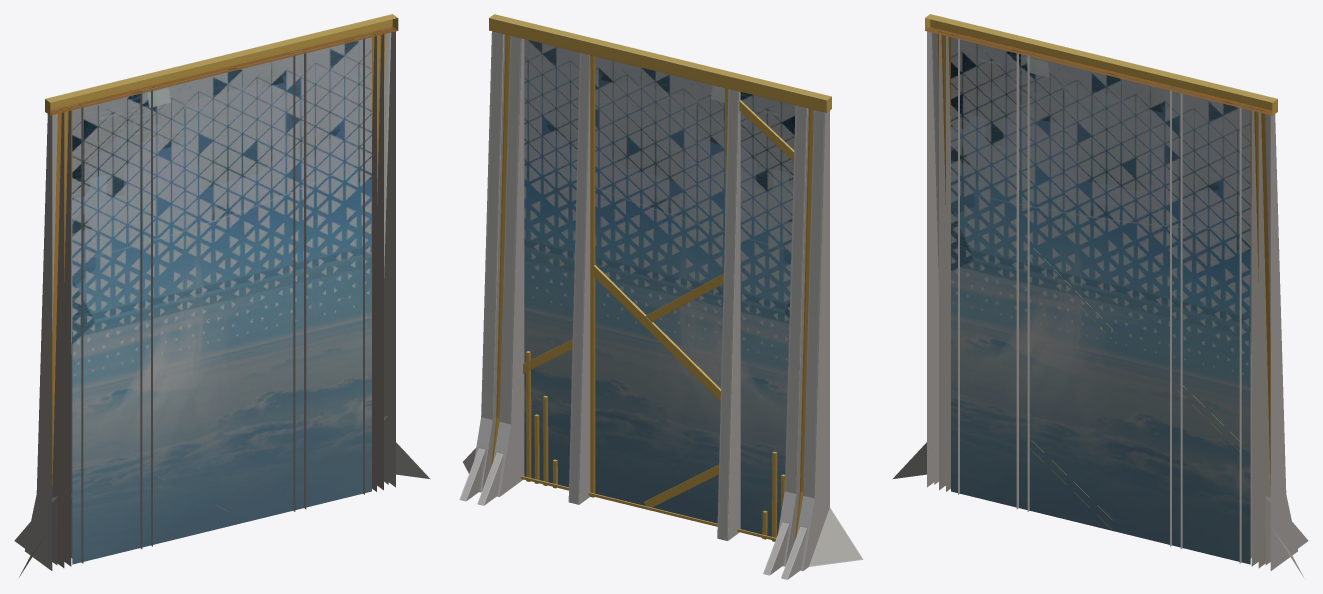
File: furn_ab2024_walldeco01.gltf
3 renders of one model, left to right at view 1: azimuth 30°, elevation 25°; view 2: azimuth 150°, elevation 25°; view 3: azimuth 330°, elevation 25°, orthographic. The views are drawn at different scales.
Visible parts, largest first — view 1: ab2024_walldeco01; view 2: ab2024_walldeco01; view 3: ab2024_walldeco01.
Part boxes in pixels (<box>): ab2024_walldeco01: <box>14,14,430,577</box>; ab2024_walldeco01: <box>459,14,863,579</box>; ab2024_walldeco01: <box>892,14,1308,577</box>.
Size of the model in its own units: 2.22 by 2.41 by 0.3828.
Materials: 2 (2 with a texture image).
